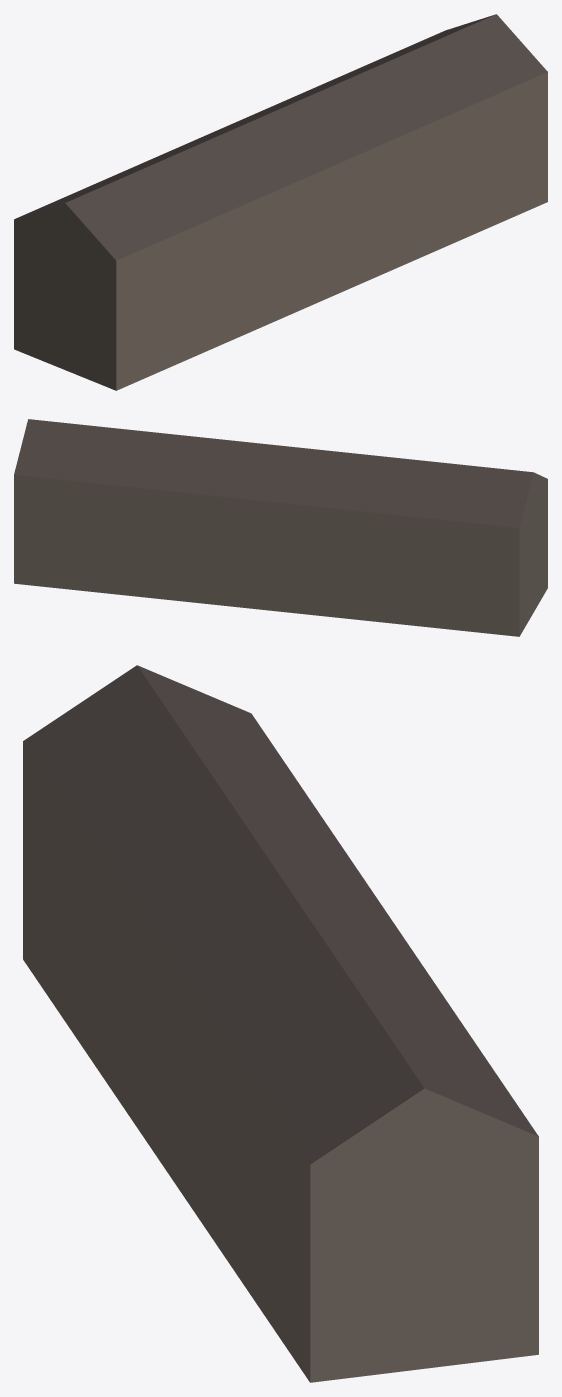
3 renders of one model, top to bottom at view 1: azimuth 30°, elevation 25°; view 2: azimuth 150°, elevation 25°; view 3: azimuth 270°, elevation 25°, orthographic. The views are drawn at different scales.
Visible parts, largest first — view 1: HP-w1076065849; view 2: HP-w1076065849; view 3: HP-w1076065849.
Part boxes in pixels (left/top/right/bottom): HP-w1076065849: left=14, top=14, right=547, bottom=390; HP-w1076065849: left=14, top=419, right=547, bottom=636; HP-w1076065849: left=23, top=665, right=538, bottom=1382.
Bounding box in the file's own units: 39.95 × 11.57 × 19.3.
